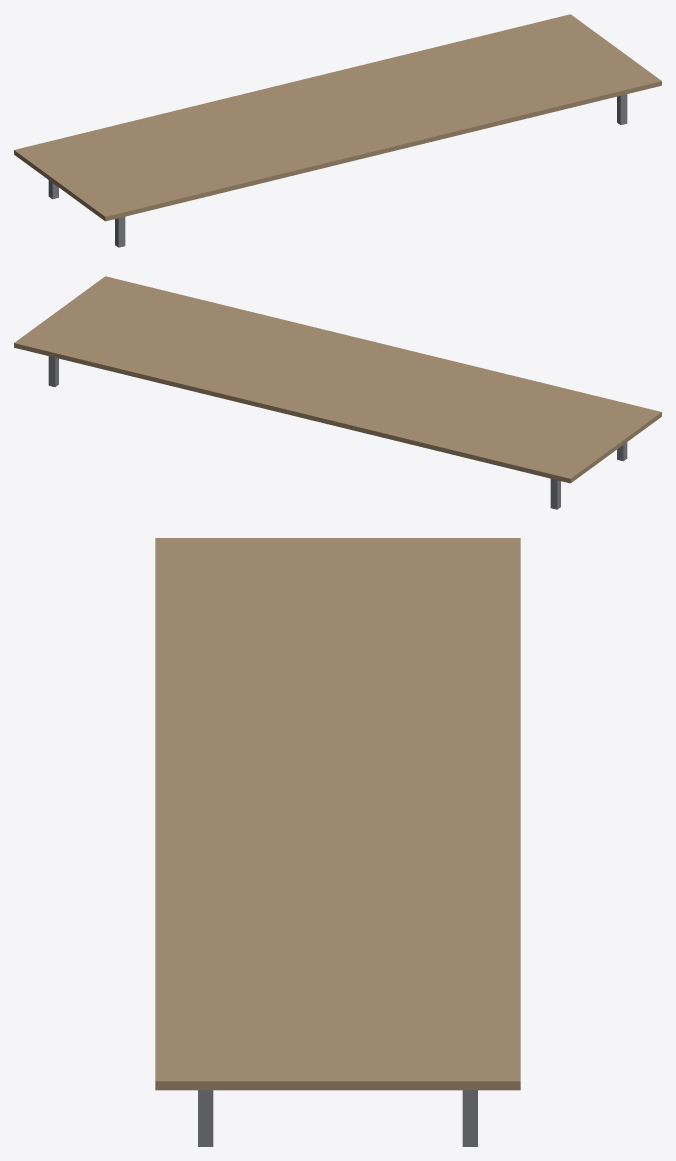
Rendered from board-table.glb.
3 views of the same model, one above another, from view 1: azimuth 30°, elevation 25°; view 2: azimuth 150°, elevation 25°; view 3: azimuth 270°, elevation 25° (orthographic). The views are drawn at different scales.
Parts seen in each view (by area): view 1: BoardTable; view 2: BoardTable; view 3: BoardTable.
Part boxes in pixels (x1,y1,x2,y2): BoardTable: (14, 14, 661, 247); BoardTable: (14, 276, 661, 509); BoardTable: (155, 538, 520, 1146).
Size of the model in its own units: 10.2 by 0.78 by 2.9.
